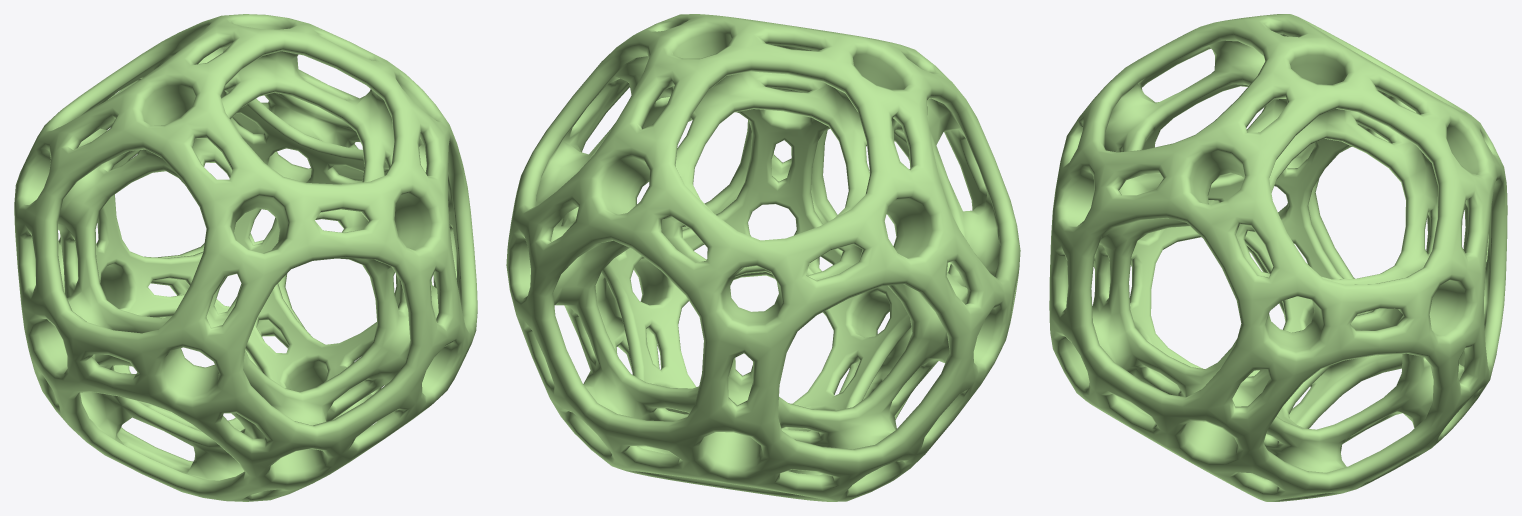
Rendered from world_hedra.FBX.
The picture shows the model from 3 angles, left to right: view 1: azimuth 30°, elevation 25°; view 2: azimuth 150°, elevation 25°; view 3: azimuth 270°, elevation 25°; orthographic projection. The views are drawn at different scales.
Parts seen in each view (by area): view 1: world_hedra; view 2: world_hedra; view 3: world_hedra.
Boxes of the visible parts, x1,y1,x2,y2 form: world_hedra: (14,14,477,501); world_hedra: (506,14,1020,501); world_hedra: (1049,14,1507,501).
Bounding box in the file's own units: 1522 × 1520 × 1427.
